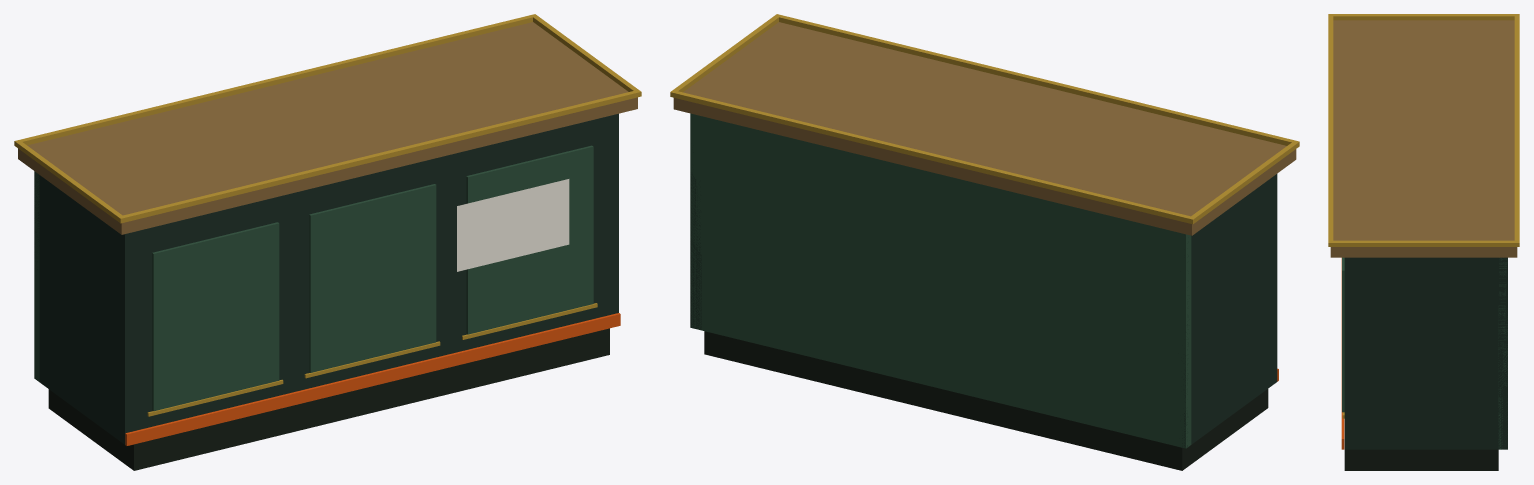
Rendered from cashier-counter.glb.
3 renders of one model, left to right at view 1: azimuth 30°, elevation 25°; view 2: azimuth 150°, elevation 25°; view 3: azimuth 270°, elevation 25°, orthographic. The views are drawn at different scales.
Parts seen in each view (by area): view 1: counter_top, front_panel, front_field_1, front_field_2, end_left, kick_plinth, front_field_3, counter_notice_slot, accent_stripe, edge_front, edge_back, end_right (+6 smaller); view 2: back_panel, counter_top, end_left, kick_plinth, edge_back, edge_front, end_right, edge_left, edge_right, front_panel; view 3: counter_top, end_right, kick_plinth, front_panel, edge_back, edge_front, edge_right, edge_left, back_panel, front_field_3, accent_stripe.
Part boxes in pixels (x1=…): counter_top: x1=18, y1=22, x2=637, y2=234; front_panel: x1=118, y1=116, x2=618, y2=444; front_field_1: x1=152, y1=222, x2=279, y2=411; front_field_2: x1=309, y1=184, x2=436, y2=372; end_left: x1=34, y1=171, x2=136, y2=439; kick_plinth: x1=48, y1=328, x2=609, y2=470; front_field_3: x1=466, y1=145, x2=593, y2=334; counter_notice_slot: x1=457, y1=179, x2=569, y2=271; accent_stripe: x1=125, y1=313, x2=620, y2=445; edge_front: x1=118, y1=89, x2=641, y2=223; edge_back: x1=16, y1=14, x2=537, y2=145; end_right: x1=607, y1=113, x2=618, y2=315; back_panel: x1=690, y1=113, x2=1191, y2=448; counter_top: x1=673, y1=22, x2=1296, y2=235; end_left: x1=1182, y1=174, x2=1276, y2=447; kick_plinth: x1=704, y1=331, x2=1268, y2=470; edge_back: x1=670, y1=90, x2=1195, y2=224; edge_front: x1=774, y1=14, x2=1299, y2=147; end_right: x1=690, y1=152, x2=701, y2=329; edge_left: x1=1191, y1=140, x2=1299, y2=223; edge_right: x1=670, y1=14, x2=779, y2=96; front_panel: x1=1271, y1=174, x2=1277, y2=382; counter_top: x1=1330, y1=20, x2=1517, y2=257; end_right: x1=1344, y1=257, x2=1507, y2=449; kick_plinth: x1=1344, y1=449, x2=1498, y2=470; front_panel: x1=1344, y1=257, x2=1356, y2=449; edge_back: x1=1514, y1=14, x2=1519, y2=246; edge_front: x1=1328, y1=14, x2=1333, y2=246; edge_right: x1=1328, y1=240, x2=1519, y2=246; edge_left: x1=1328, y1=14, x2=1514, y2=20; back_panel: x1=1498, y1=258, x2=1507, y2=449; front_field_3: x1=1342, y1=257, x2=1344, y2=412; accent_stripe: x1=1341, y1=258, x2=1344, y2=449.
Bounding box in the file's own units: 2.32 × 1.12 × 0.82.
